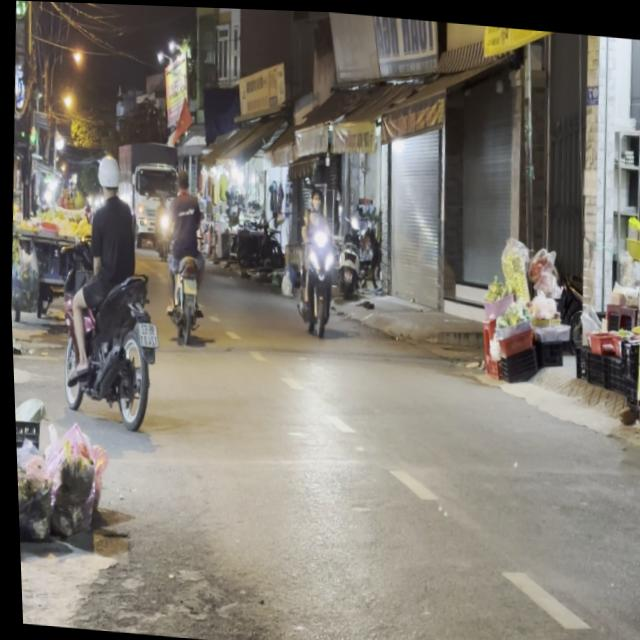helmet: (95, 152, 123, 196)
licenseplate: (50, 147, 168, 431)
nohelmet: (133, 320, 157, 346)
